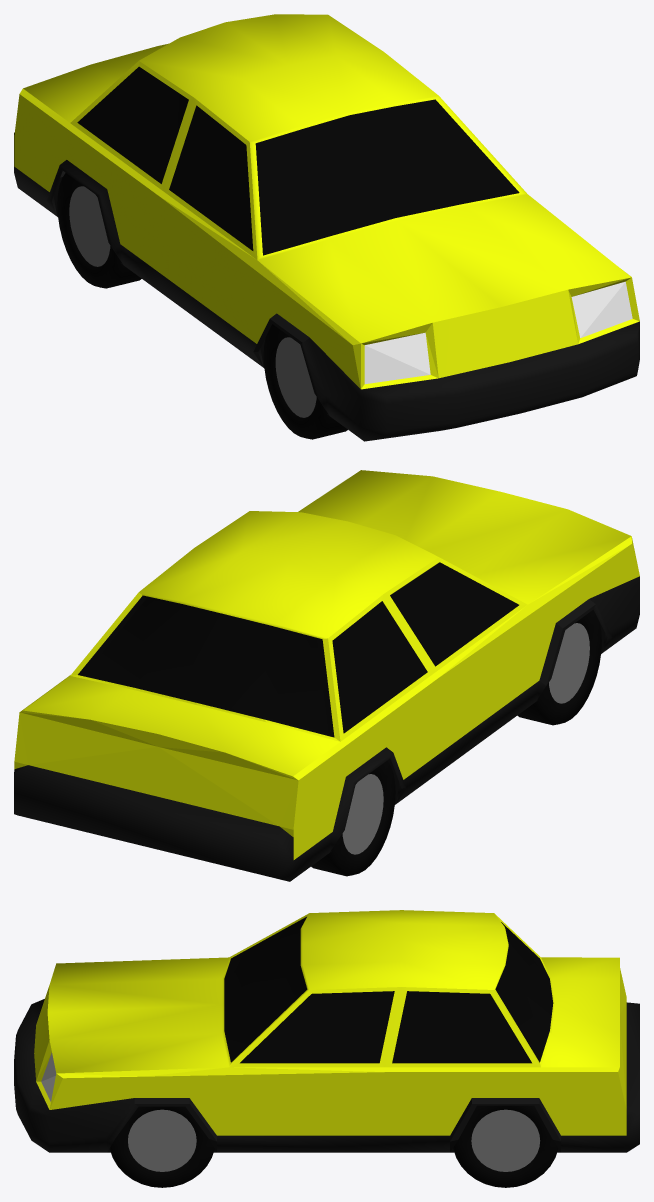
File: car5.obj
3 renders of one model, top to bottom at view 1: azimuth 30°, elevation 25°; view 2: azimuth 150°, elevation 25°; view 3: azimuth 270°, elevation 25°, orthographic. The views are drawn at different scales.
Visible parts, largest first — view 1: Car_Cube; view 2: Car_Cube; view 3: Car_Cube.
Boxes of the visible parts, bbox=[...] form: Car_Cube: bbox=[14, 14, 639, 441]; Car_Cube: bbox=[14, 470, 639, 881]; Car_Cube: bbox=[14, 910, 639, 1187].
Bounding box in the file's own units: 2.1 × 1.59 × 4.66.
